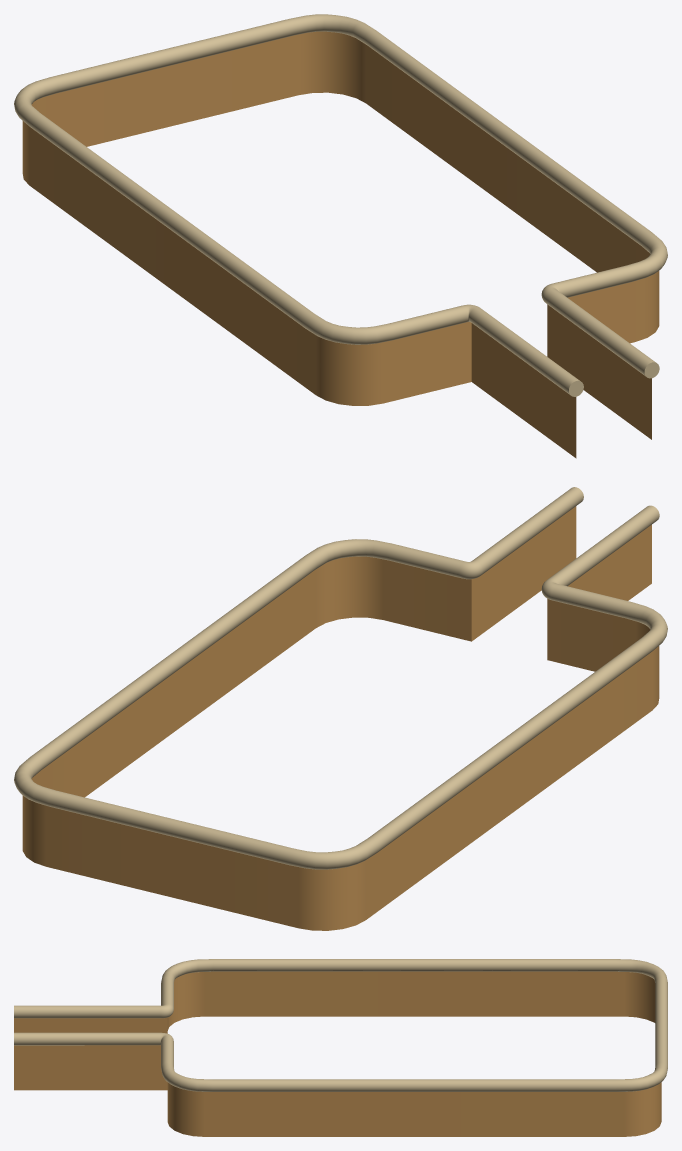
Rendered from LevelEnd.fbx.
The picture shows the model from 3 angles, top to bottom: view 1: azimuth 30°, elevation 25°; view 2: azimuth 150°, elevation 25°; view 3: azimuth 270°, elevation 25°; orthographic projection. The views are drawn at different scales.
Visible parts, largest first — view 1: LevelEnd; view 2: LevelEnd; view 3: LevelEnd.
Boxes of the visible parts, box(x1,y1,x2,y2) form: LevelEnd: box(14, 14, 667, 458); LevelEnd: box(14, 487, 667, 930); LevelEnd: box(14, 959, 667, 1136).
Size of the model in its own units: 580 by 123 by 1274.
